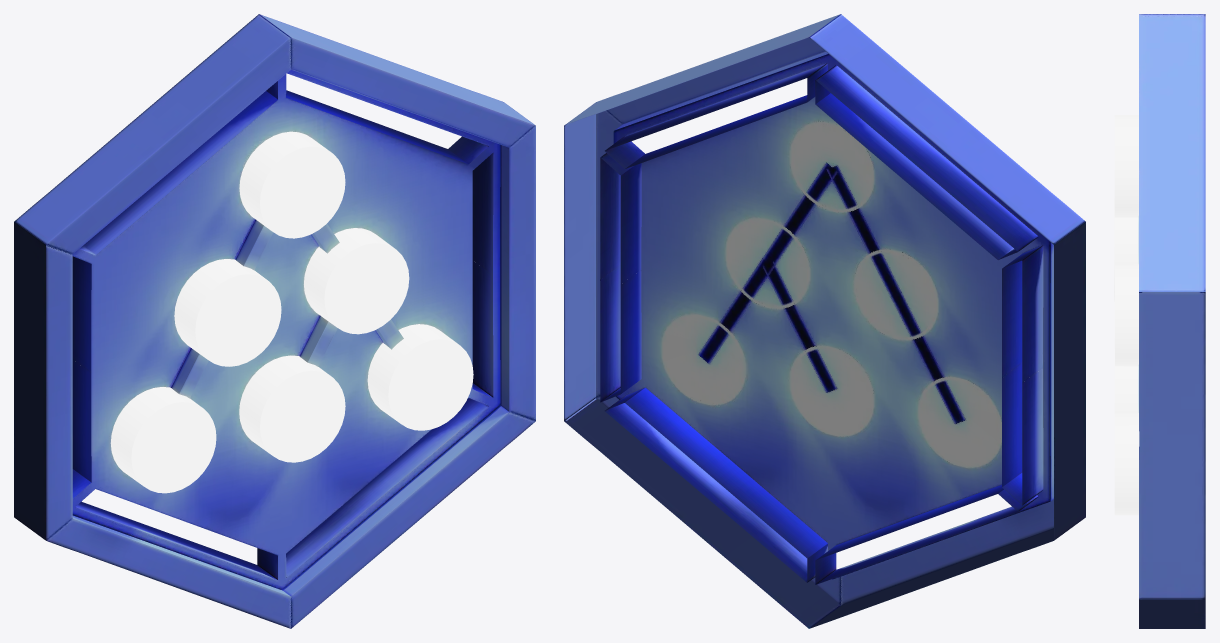
File: binary_tree-transformed.glb
3 views of the same model, side by side, from view 1: azimuth 30°, elevation 25°; view 2: azimuth 150°, elevation 25°; view 3: azimuth 270°, elevation 25° (orthographic). The views are drawn at different scales.
Parts seen in each view (by area): view 1: Main-LR; view 2: Main-LR; view 3: Main-LR.
Boxes of the visible parts, x1=… form: Main-LR: x1=14, y1=14, x2=535, y2=628; Main-LR: x1=564, y1=14, x2=1085, y2=628; Main-LR: x1=1114, y1=14, x2=1205, y2=628.
Size of the model in its own units: 11.45 by 13.21 by 1.78.
2 materials, 1 textured.
